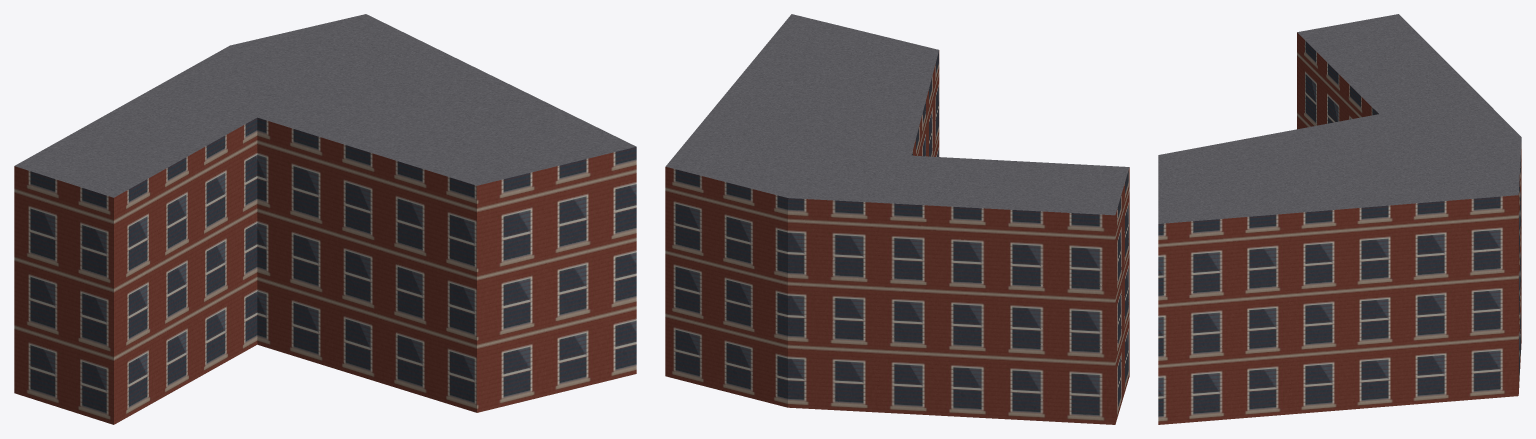
Rendered from bin1080765.glb.
3 views of the same model, side by side, from view 1: azimuth 30°, elevation 25°; view 2: azimuth 150°, elevation 25°; view 3: azimuth 270°, elevation 25° (orthographic). The views are drawn at different scales.
Visible parts, largest first — view 1: c2, c0, c5, c1, c11, c3, c4, c8, c9, c10; view 2: c2, c0, c8, c1, c6, c7, c11, c5; view 3: c11, c2, c8, c9, c10, c6, c7, c5.
Boxes of the visible parts, x1=… form: c2: x1=14, y1=66, x2=396, y2=278; c0: x1=14, y1=261, x2=352, y2=424; c5: x1=353, y1=77, x2=519, y2=266; c1: x1=14, y1=198, x2=352, y2=341; c11: x1=418, y1=62, x2=636, y2=255; c3: x1=353, y1=291, x2=519, y2=412; c4: x1=353, y1=228, x2=519, y2=329; c8: x1=192, y1=14, x2=463, y2=80; c9: x1=519, y1=291, x2=636, y2=402; c10: x1=519, y1=227, x2=636, y2=319; c2: x1=777, y1=109, x2=1129, y2=289; c0: x1=845, y1=300, x2=1129, y2=424; c8: x1=665, y1=111, x2=844, y2=275; c1: x1=845, y1=242, x2=1129, y2=348; c6: x1=665, y1=299, x2=844, y2=410; c7: x1=665, y1=241, x2=844, y2=333; c11: x1=711, y1=14, x2=899, y2=119; c5: x1=761, y1=40, x2=939, y2=156; c11: x1=1158, y1=173, x2=1388, y2=295; c2: x1=1283, y1=14, x2=1499, y2=175; c8: x1=1381, y1=116, x2=1521, y2=276; c9: x1=1158, y1=333, x2=1388, y2=424; c10: x1=1158, y1=276, x2=1388, y2=351; c6: x1=1389, y1=270, x2=1521, y2=406; c7: x1=1389, y1=214, x2=1521, y2=332; c5: x1=1158, y1=132, x2=1384, y2=183.
Bounding box in the file's own units: 26.1 × 11.64 × 19.09.
3 materials, 3 textured.
